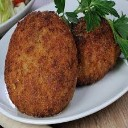cutlet: (4, 8, 80, 115), (73, 17, 119, 87)
